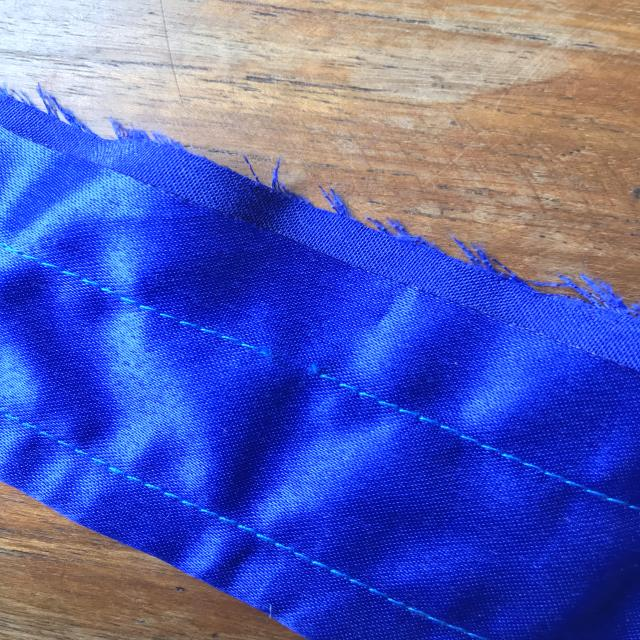broken: (240, 319, 338, 393)
good: (265, 530, 381, 597)
